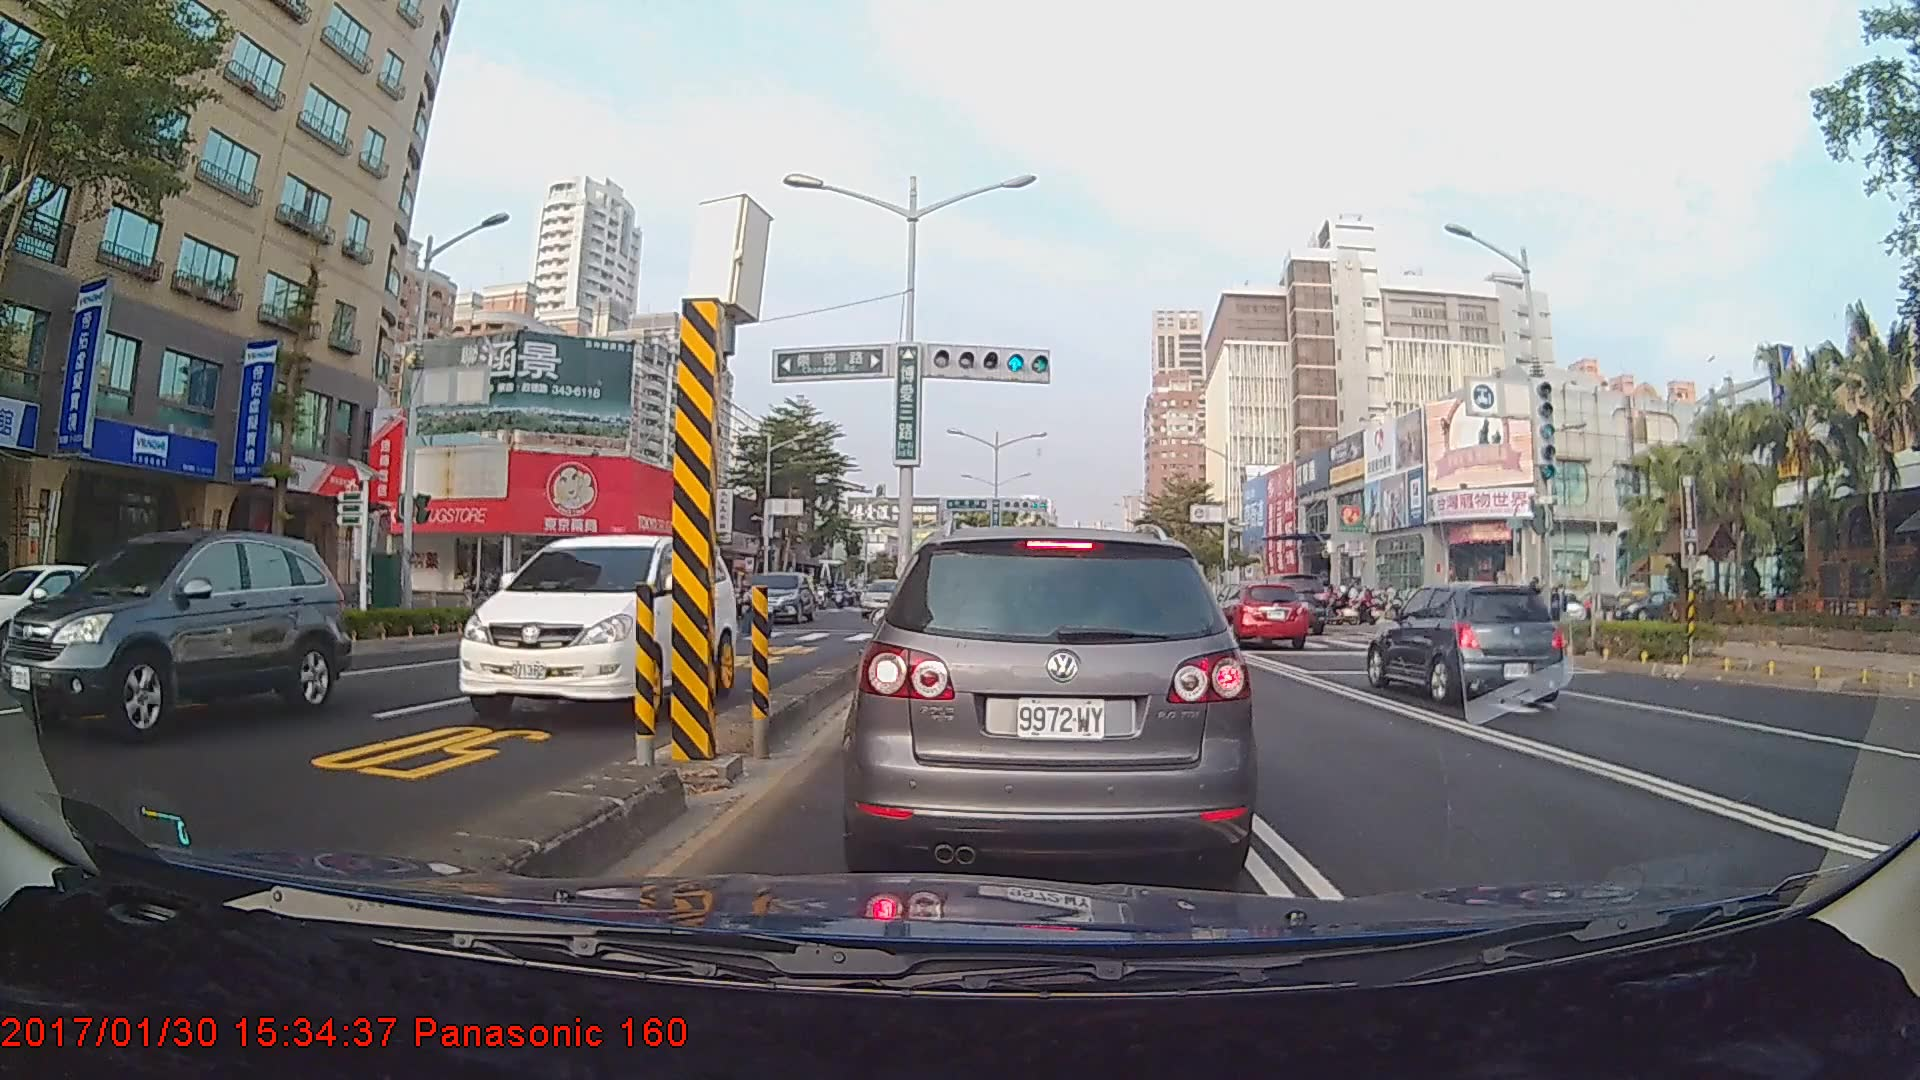vehicle: (853, 524, 1251, 880), (0, 525, 352, 744), (455, 533, 735, 723), (1366, 579, 1569, 704), (0, 560, 157, 671), (1211, 578, 1309, 649), (738, 571, 818, 625), (858, 578, 914, 617)
